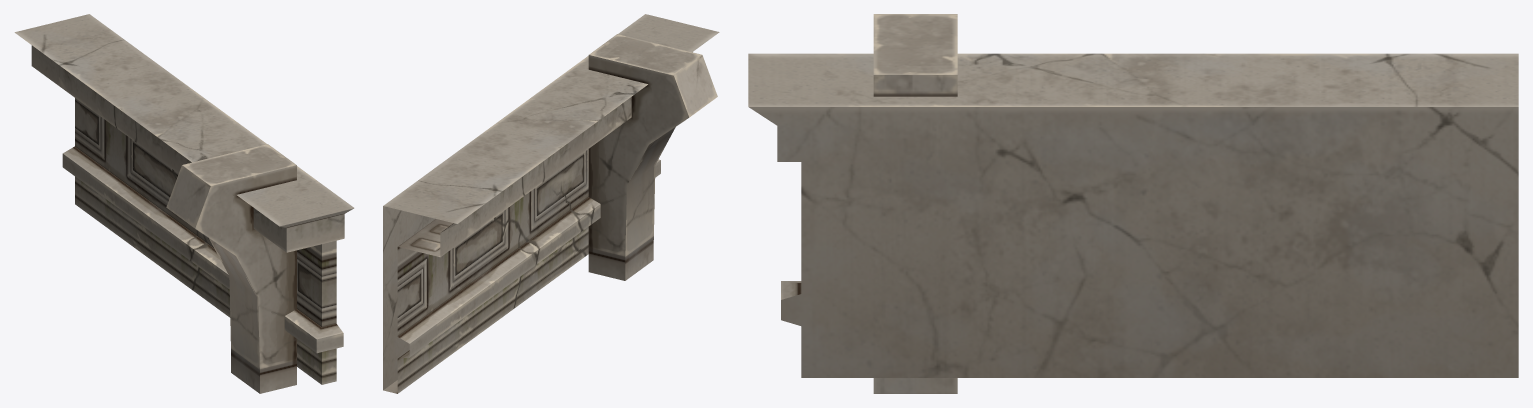
Rendered from cornice03_endR.fbx.
3 renders of one model, left to right at view 1: azimuth 30°, elevation 25°; view 2: azimuth 150°, elevation 25°; view 3: azimuth 270°, elevation 25°, orthographic. The views are drawn at different scales.
Visible parts, largest first — view 1: cornice03_endR; view 2: cornice03_endR; view 3: cornice03_endR.
Boxes of the visible parts, bbox=[...] form: cornice03_endR: bbox=[14, 14, 354, 393]; cornice03_endR: bbox=[383, 14, 719, 393]; cornice03_endR: bbox=[748, 14, 1518, 393].
Size of the model in its own units: 81.64 by 147 by 322.
